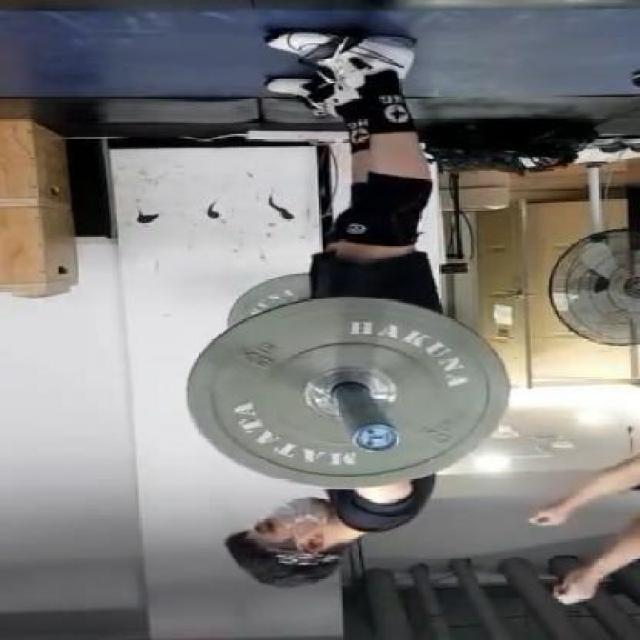Barbell: (348, 420, 400, 457)
